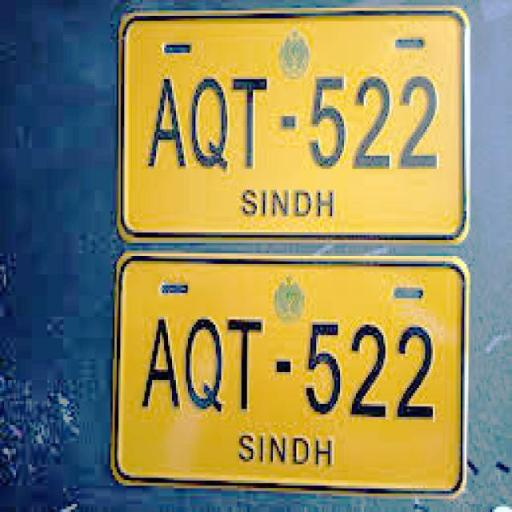2: (392, 74, 447, 176), (395, 323, 441, 425), (352, 68, 393, 182), (352, 320, 386, 418)
5: (299, 75, 349, 176), (304, 318, 341, 413)
A: (142, 316, 180, 416), (147, 79, 185, 169)
Q: (177, 312, 225, 414), (187, 78, 232, 171)
T: (227, 312, 264, 414), (232, 78, 267, 167)
